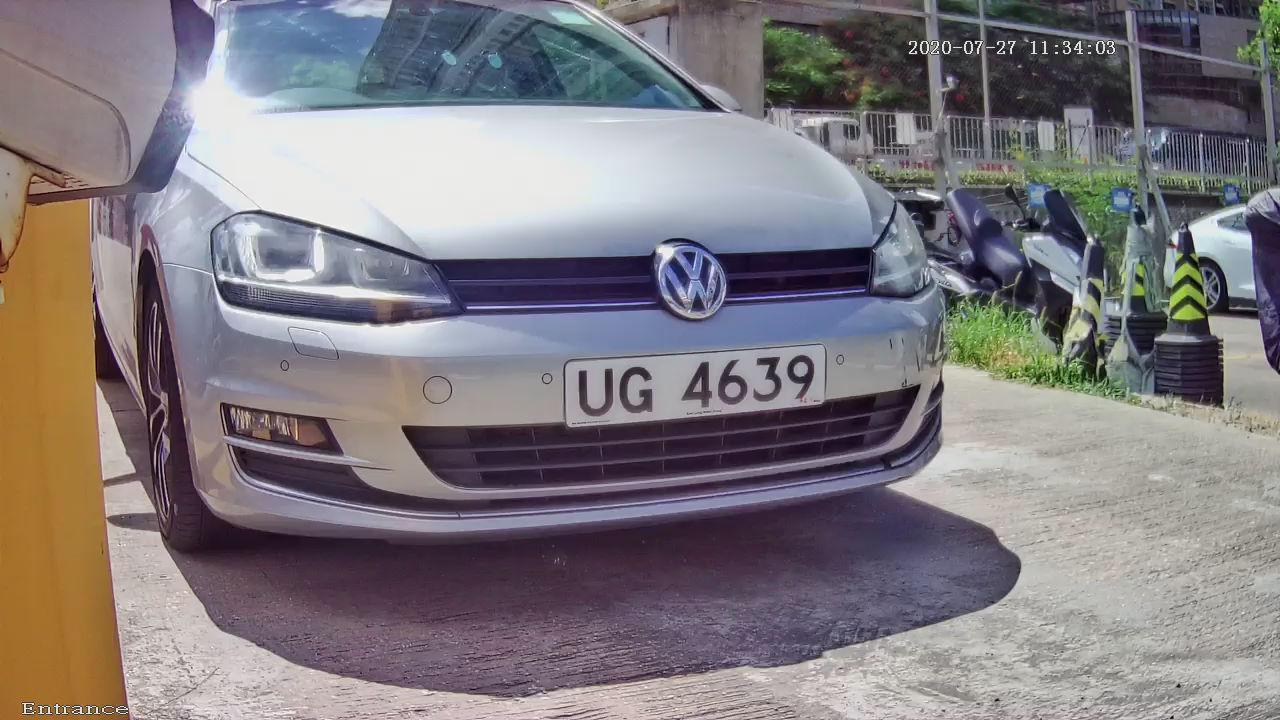privatecar: (92, 1, 1046, 602)
